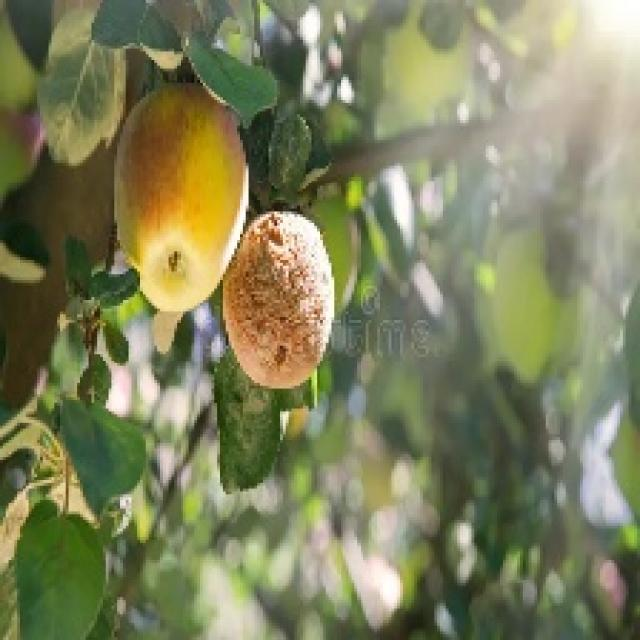rotten_apple: (225, 211, 332, 388)
